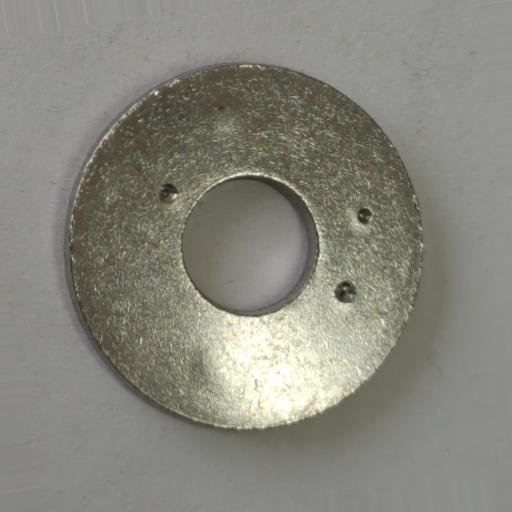circular_cavity: (334, 280, 358, 304), (159, 183, 180, 203), (357, 207, 372, 224)
